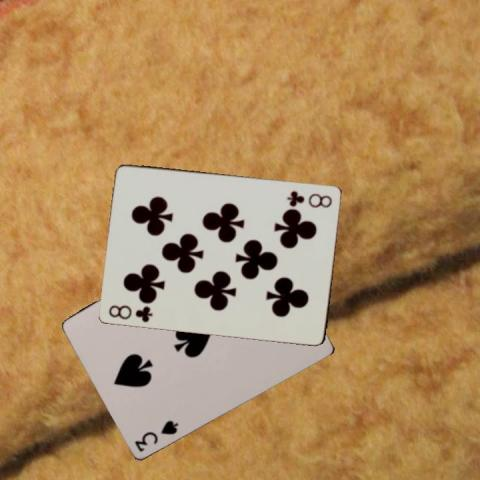3s: (131, 416, 180, 452)
8c: (105, 301, 154, 324), (284, 187, 334, 209)
